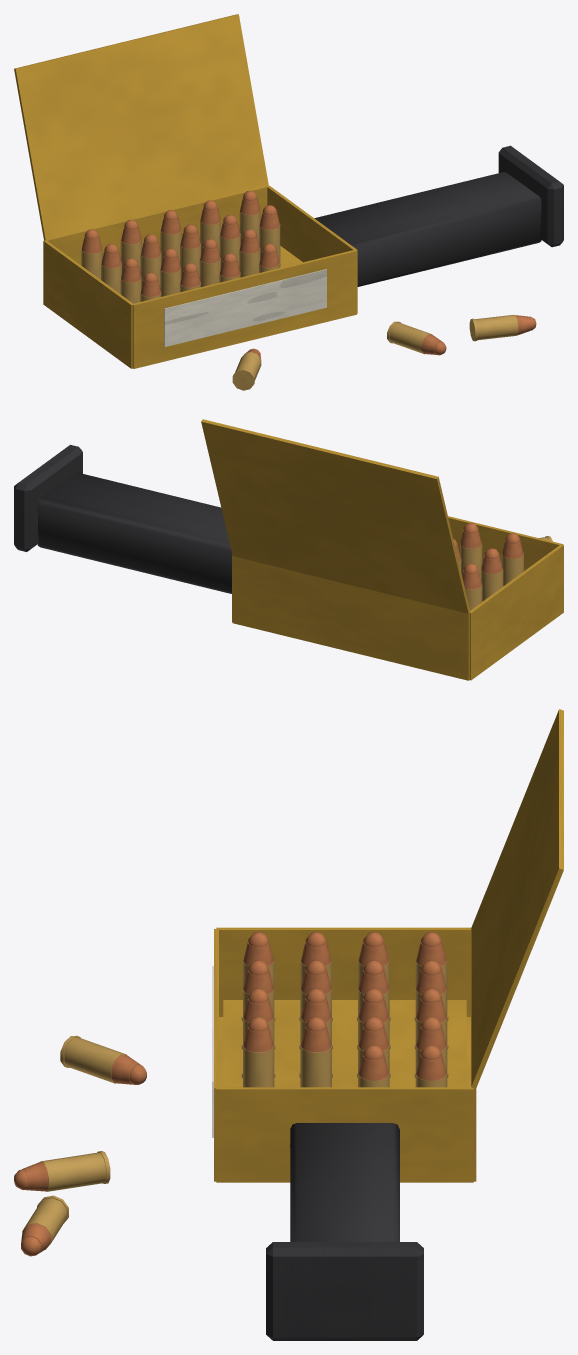
Rendered from OB_Amunicja.fbx.
3 views of the same model, one above another, from view 1: azimuth 30°, elevation 25°; view 2: azimuth 150°, elevation 25°; view 3: azimuth 270°, elevation 25° (orthographic). The views are drawn at different scales.
Visible parts, largest first — view 1: Amunicja; view 2: Amunicja; view 3: Amunicja.
Part boxes in pixels (box(x1,y1,x2,y2)): Amunicja: box(14, 14, 563, 390); Amunicja: box(14, 419, 563, 680); Amunicja: box(14, 709, 563, 1340).
Size of the model in its own units: 0.2228 by 0.101 by 0.1604.
